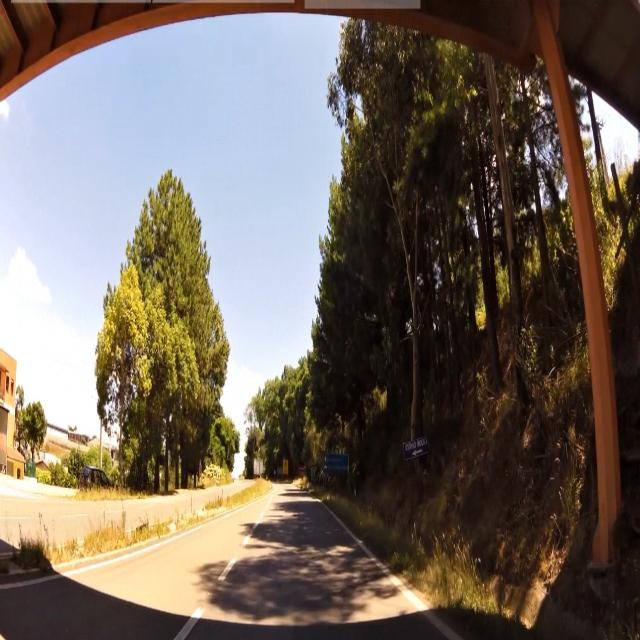LOC-6: (326, 455, 352, 474)
